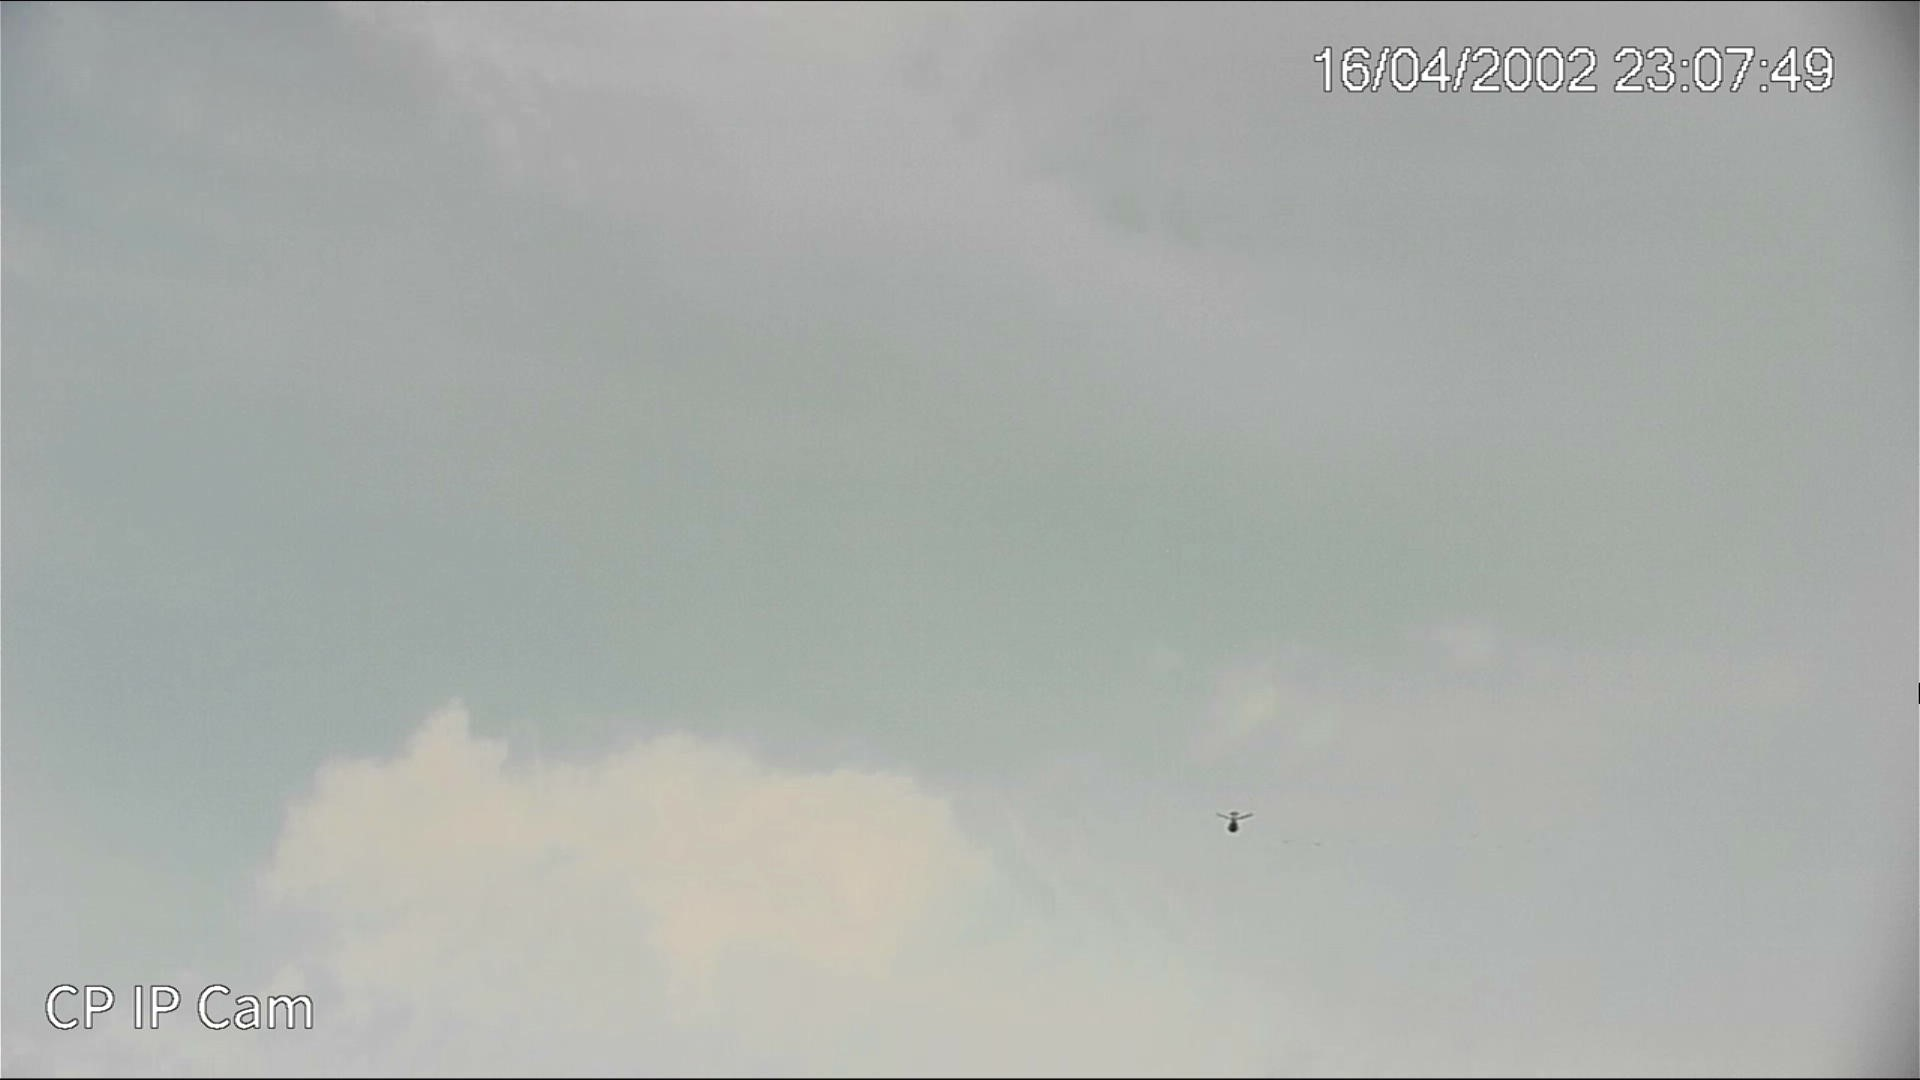SU_30: (1215, 810, 1257, 832)
